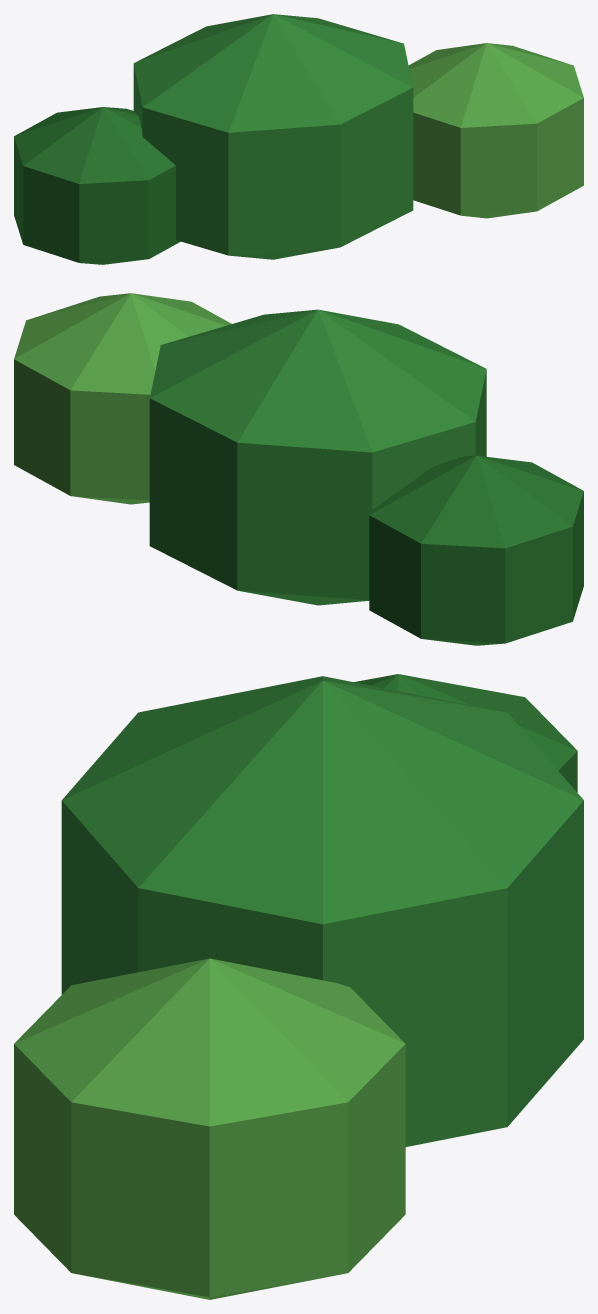
File: shrubs_tropical.obj
3 views of the same model, one above another, from view 1: azimuth 30°, elevation 25°; view 2: azimuth 150°, elevation 25°; view 3: azimuth 270°, elevation 25° (orthographic). The views are drawn at different scales.
Visible parts, largest first — view 1: shrub_a, shrub_b, shrub_c; view 2: shrub_a, shrub_c, shrub_b; view 3: shrub_a, shrub_b, shrub_c.
Boxes of the visible parts, bbox=[...] form: shrub_a: bbox=[133, 14, 413, 259]; shrub_b: bbox=[408, 43, 583, 218]; shrub_c: bbox=[14, 107, 180, 264]; shrub_a: bbox=[149, 309, 486, 605]; shrub_c: bbox=[369, 455, 583, 645]; shrub_b: bbox=[14, 293, 231, 504]; shrub_a: bbox=[61, 676, 583, 1146]; shrub_b: bbox=[14, 958, 405, 1299]; shrub_c: bbox=[354, 674, 577, 792].
Bounding box in the file's own units: 3 × 1.4 × 1.51.
